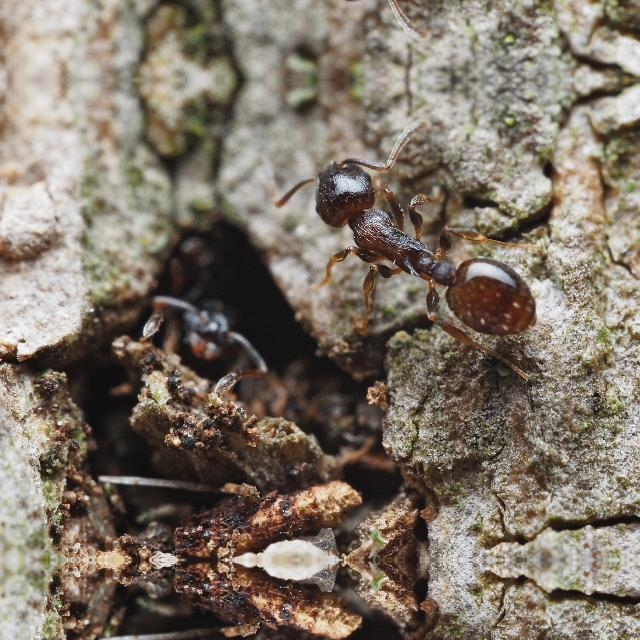Temnothorax: (306, 131, 578, 371), (136, 252, 312, 400)
